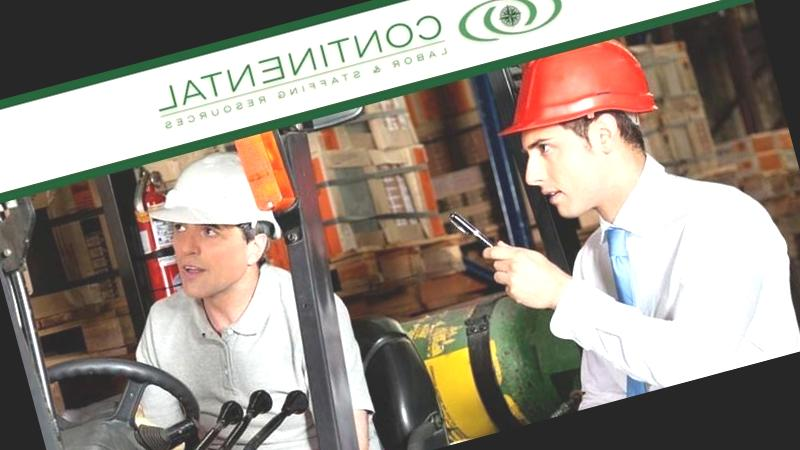helmet: (478, 27, 670, 157), (127, 147, 267, 284)
no_vest: (528, 169, 800, 407), (130, 272, 341, 450)
person: (475, 7, 800, 413), (94, 125, 397, 450)
